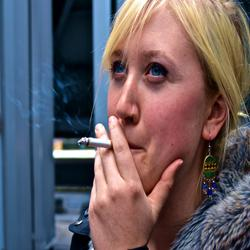smoking: (76, 136, 148, 157)
